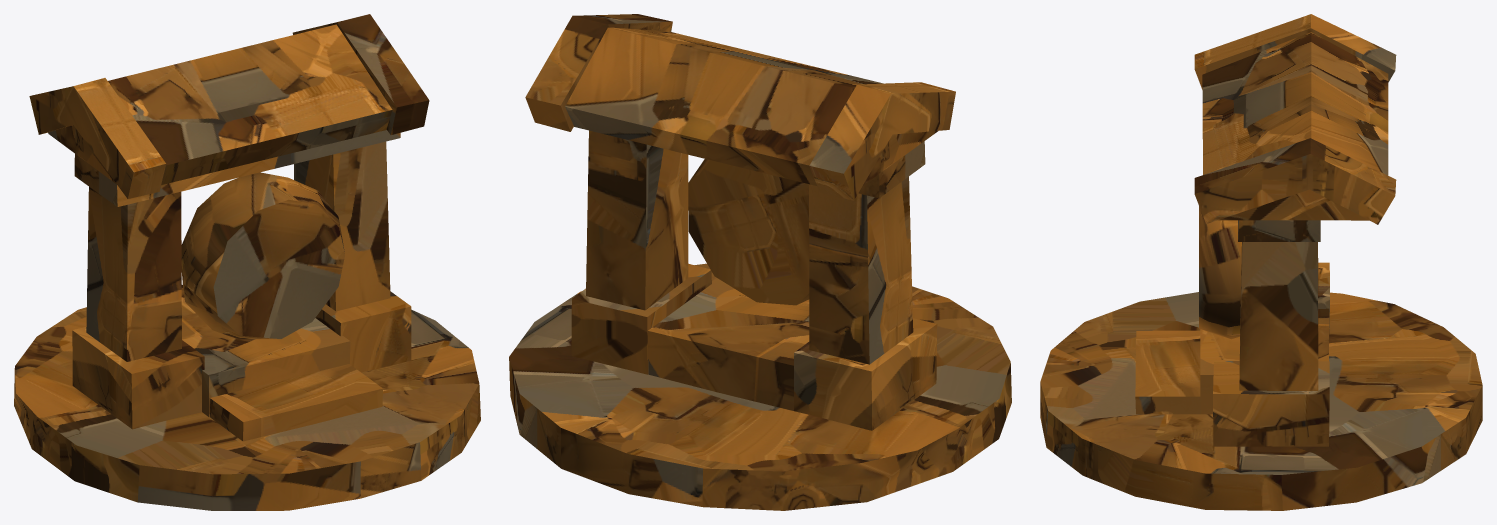
Rendered from Meshy_AI_Coin_Temple_0821174905_texture.fbx.
3 renders of one model, left to right at view 1: azimuth 30°, elevation 25°; view 2: azimuth 150°, elevation 25°; view 3: azimuth 270°, elevation 25°, orthographic. The views are drawn at different scales.
Parts seen in each view (by area): view 1: mesh_node; view 2: mesh_node; view 3: mesh_node.
Part boxes in pixels (left/top/right/bottom): mesh_node: left=14, top=14, right=480, bottom=510; mesh_node: left=509, top=14, right=1011, bottom=510; mesh_node: left=1040, top=14, right=1482, bottom=510.
Size of the model in its own units: 299 by 250 by 299.
